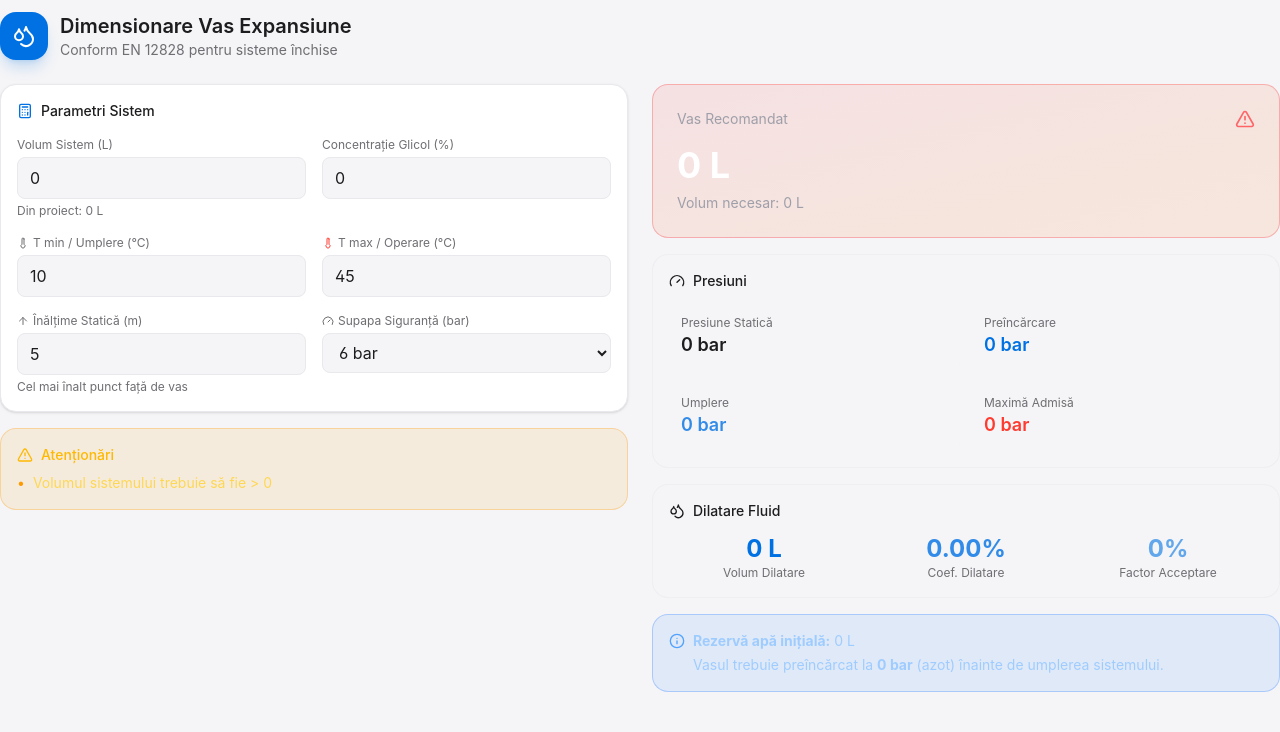
ExpansionVesselCalculator Component › calculates pressures correctly based on static height
Replace the text in the number field labelled "Volum Sistem (L)" with "100" at (162, 178), box [17,157,306,199]
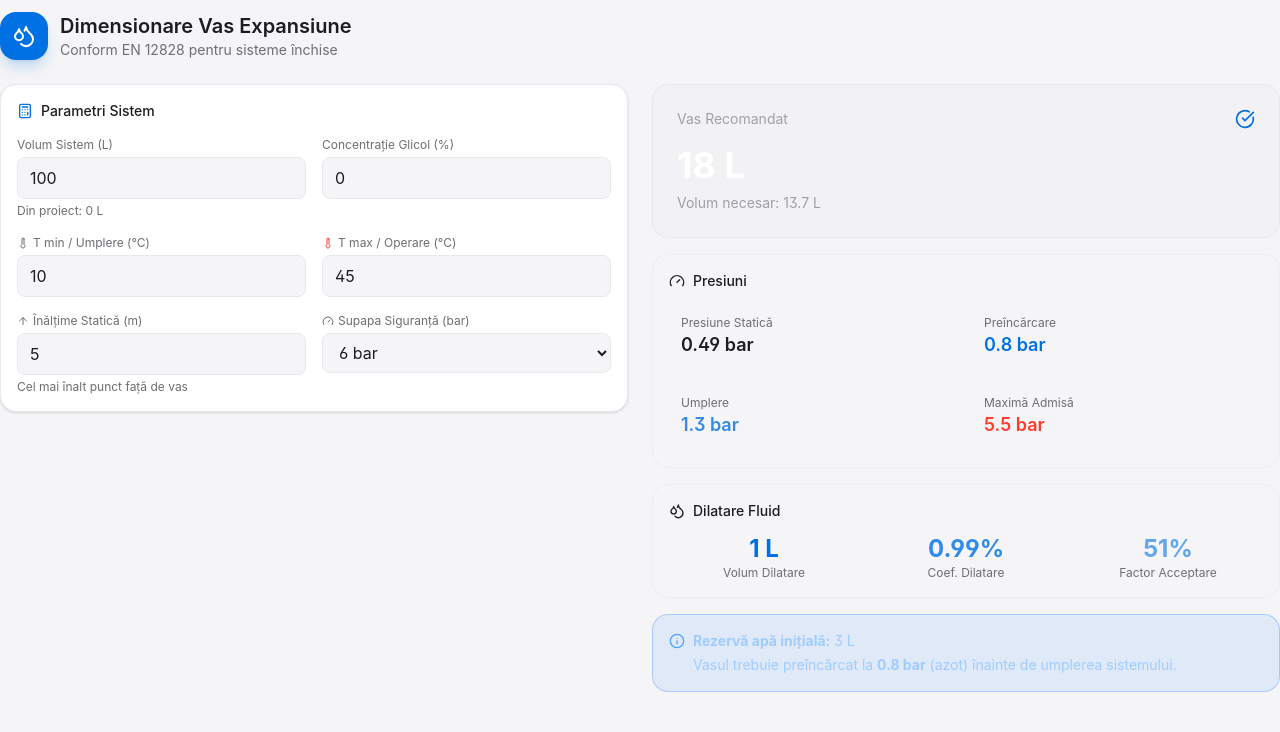
Replace the text in the number field labelled "Înălțime Statică (m)" with "10" at (162, 354), box [17,333,306,375]
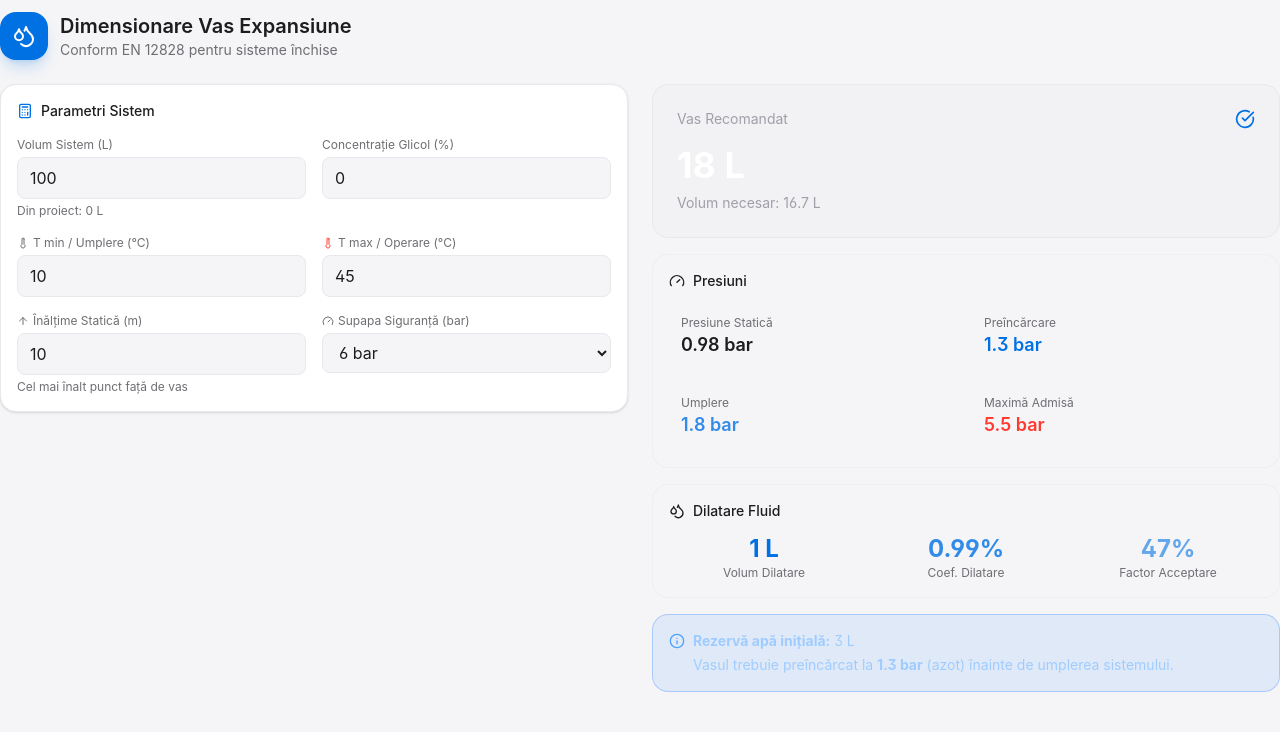
Check: the text "0.98 bar" is shown, box [681,334,753,355]
